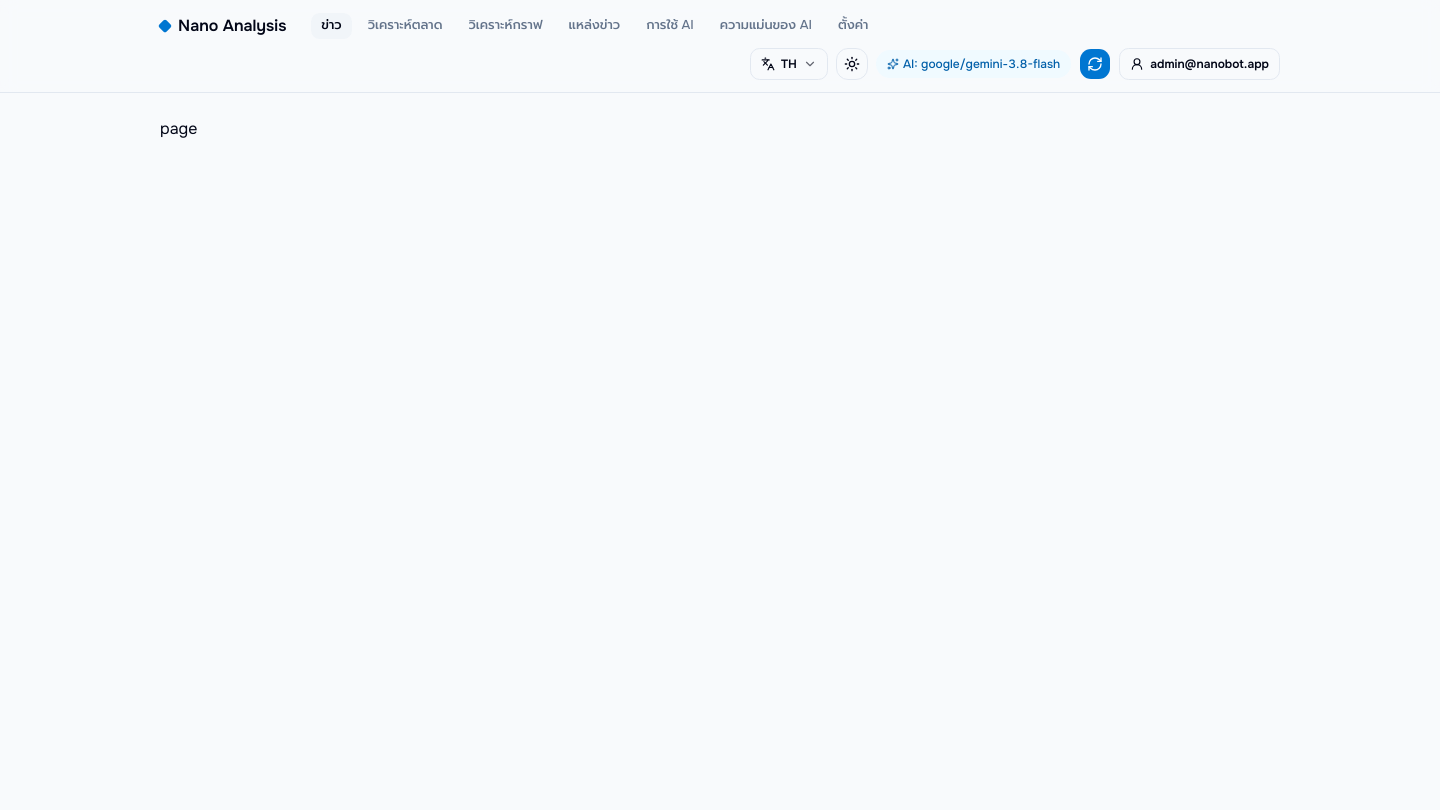
Scenario: Fetch now (header button) › explains when a run is already in progress
Click the button named "ดึงข่าวตอนนี้" at point(1095, 64), box [1079,48,1111,80]
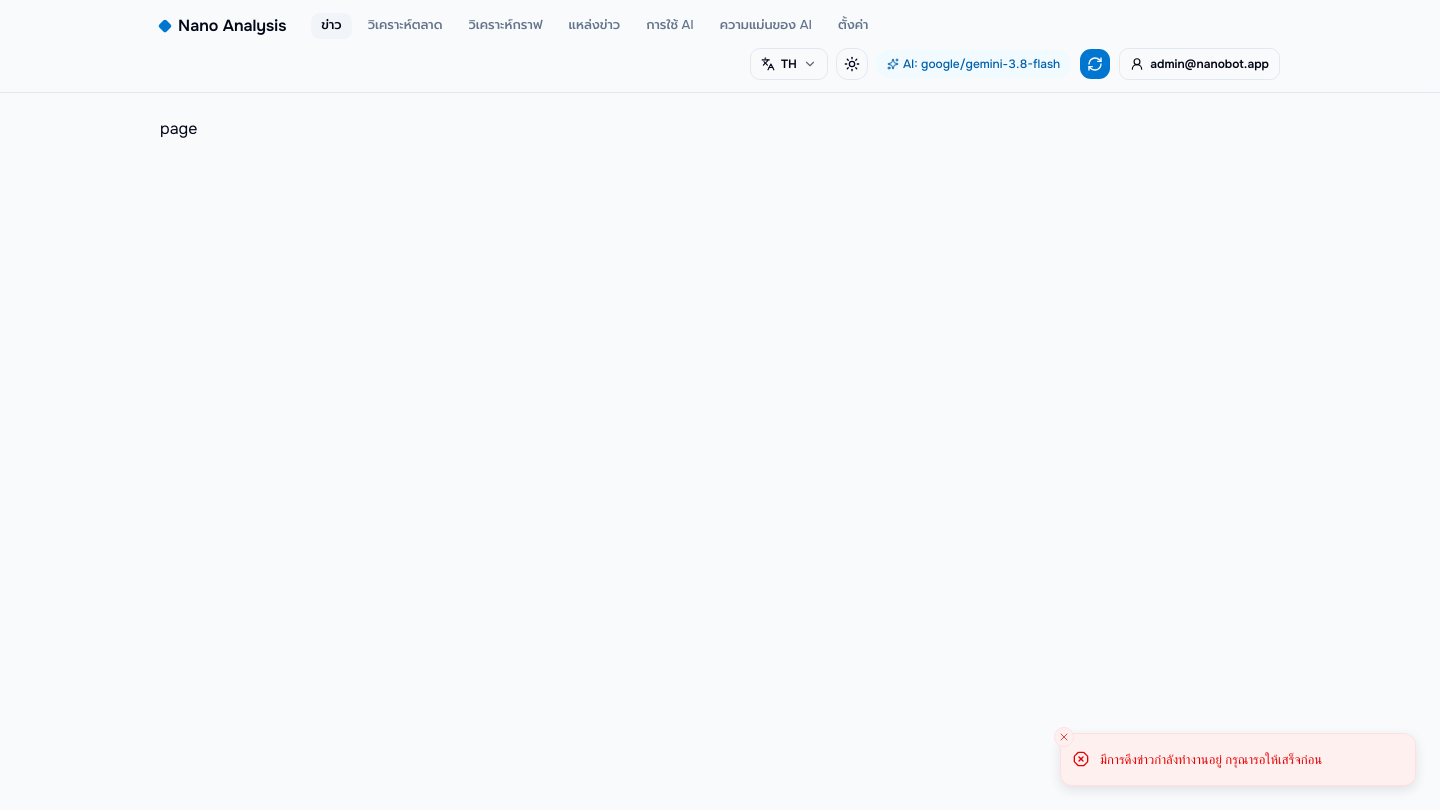
Check: the text "มีการดึงข่าวกำลังทำงานอยู่ กรุณารอให้เสร็จก่อน" is shown, box [1100,750,1322,769]
